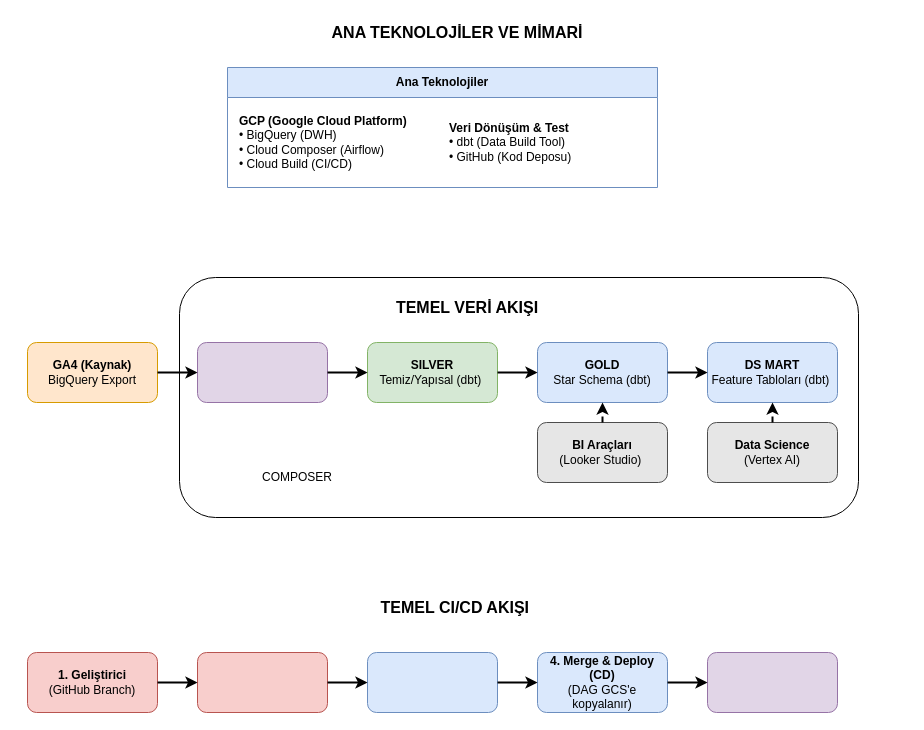
The diagram is 924 pixels wide and 730 high, and some of its shapes have lost their labels. The shapes that lost their labels are listed below. From the top down, each one's centre as x and y in pixels, then its label:
point 262,372: BRONZE Ham Veri (BQ)]
point 262,682: 2. Pull Request (PR) (main branch'e)
point 432,682: 3. Cloud Build (CI) (dbt compile, dbt test)
point 772,682: 5. Airflow (DAG) (Günlük DWH'i çalıştırır)
